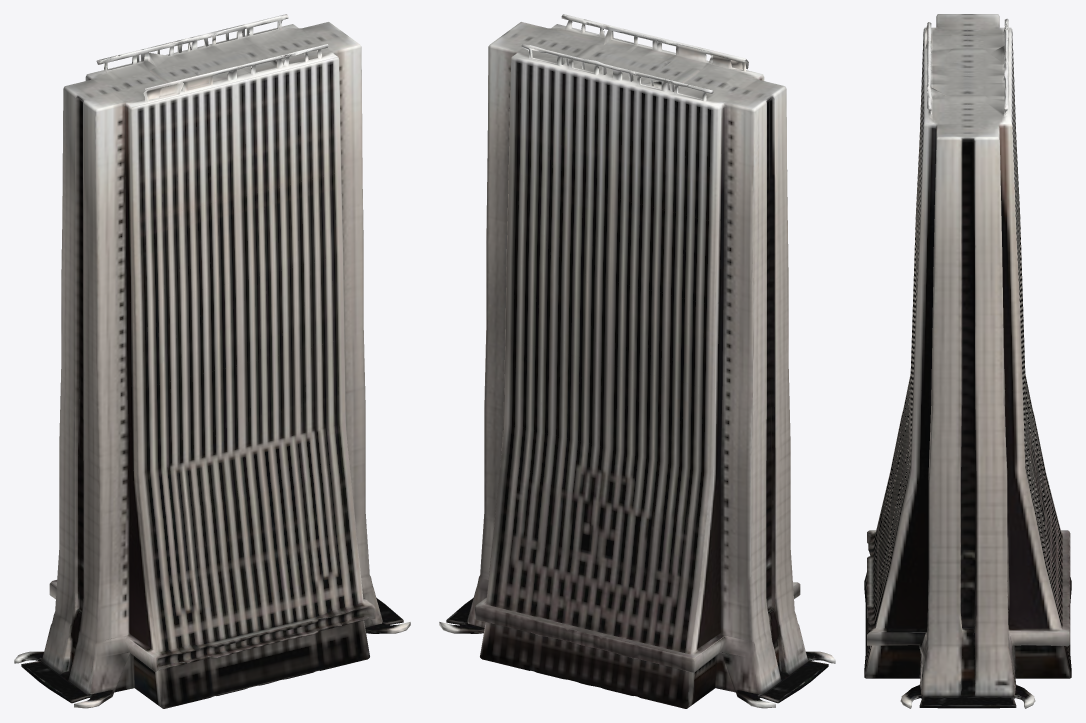
Rendered from skyscraper_large_3.glb.
The picture shows the model from 3 angles, left to right: view 1: azimuth 30°, elevation 25°; view 2: azimuth 150°, elevation 25°; view 3: azimuth 270°, elevation 25°; orthographic projection. The views are drawn at different scales.
Bounding box in the file's own units: 1.13 × 1.91 × 0.6301.
Materials: 1 (1 with a texture image).
